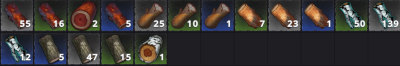ash log: (103, 32, 132, 65), (36, 33, 65, 63), (69, 33, 98, 63)
birch heartwood: (135, 32, 165, 63)
birch log: (1, 32, 32, 63), (336, 1, 366, 30), (370, 1, 400, 30)
oak log: (235, 1, 266, 30), (269, 1, 299, 30), (304, 1, 333, 29)
spruce log: (168, 2, 199, 30), (135, 1, 165, 29), (203, 1, 232, 29)
yew heartwood: (69, 1, 99, 30)
yew log: (1, 1, 33, 30), (36, 1, 65, 30), (103, 1, 132, 30)
